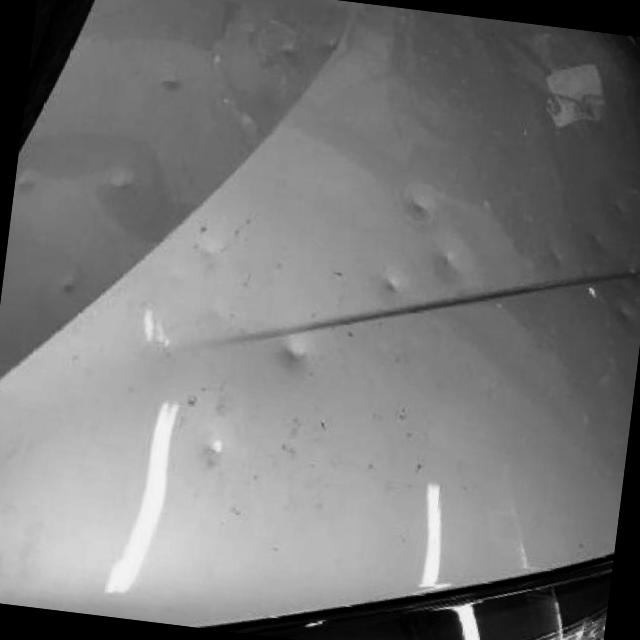dent: (194, 435, 230, 467), (432, 250, 462, 276), (408, 190, 434, 219), (156, 72, 186, 95), (58, 273, 84, 299), (284, 339, 308, 366), (109, 168, 137, 190), (15, 168, 38, 192), (382, 270, 401, 292), (588, 228, 608, 246), (615, 302, 630, 322), (610, 200, 630, 214)
